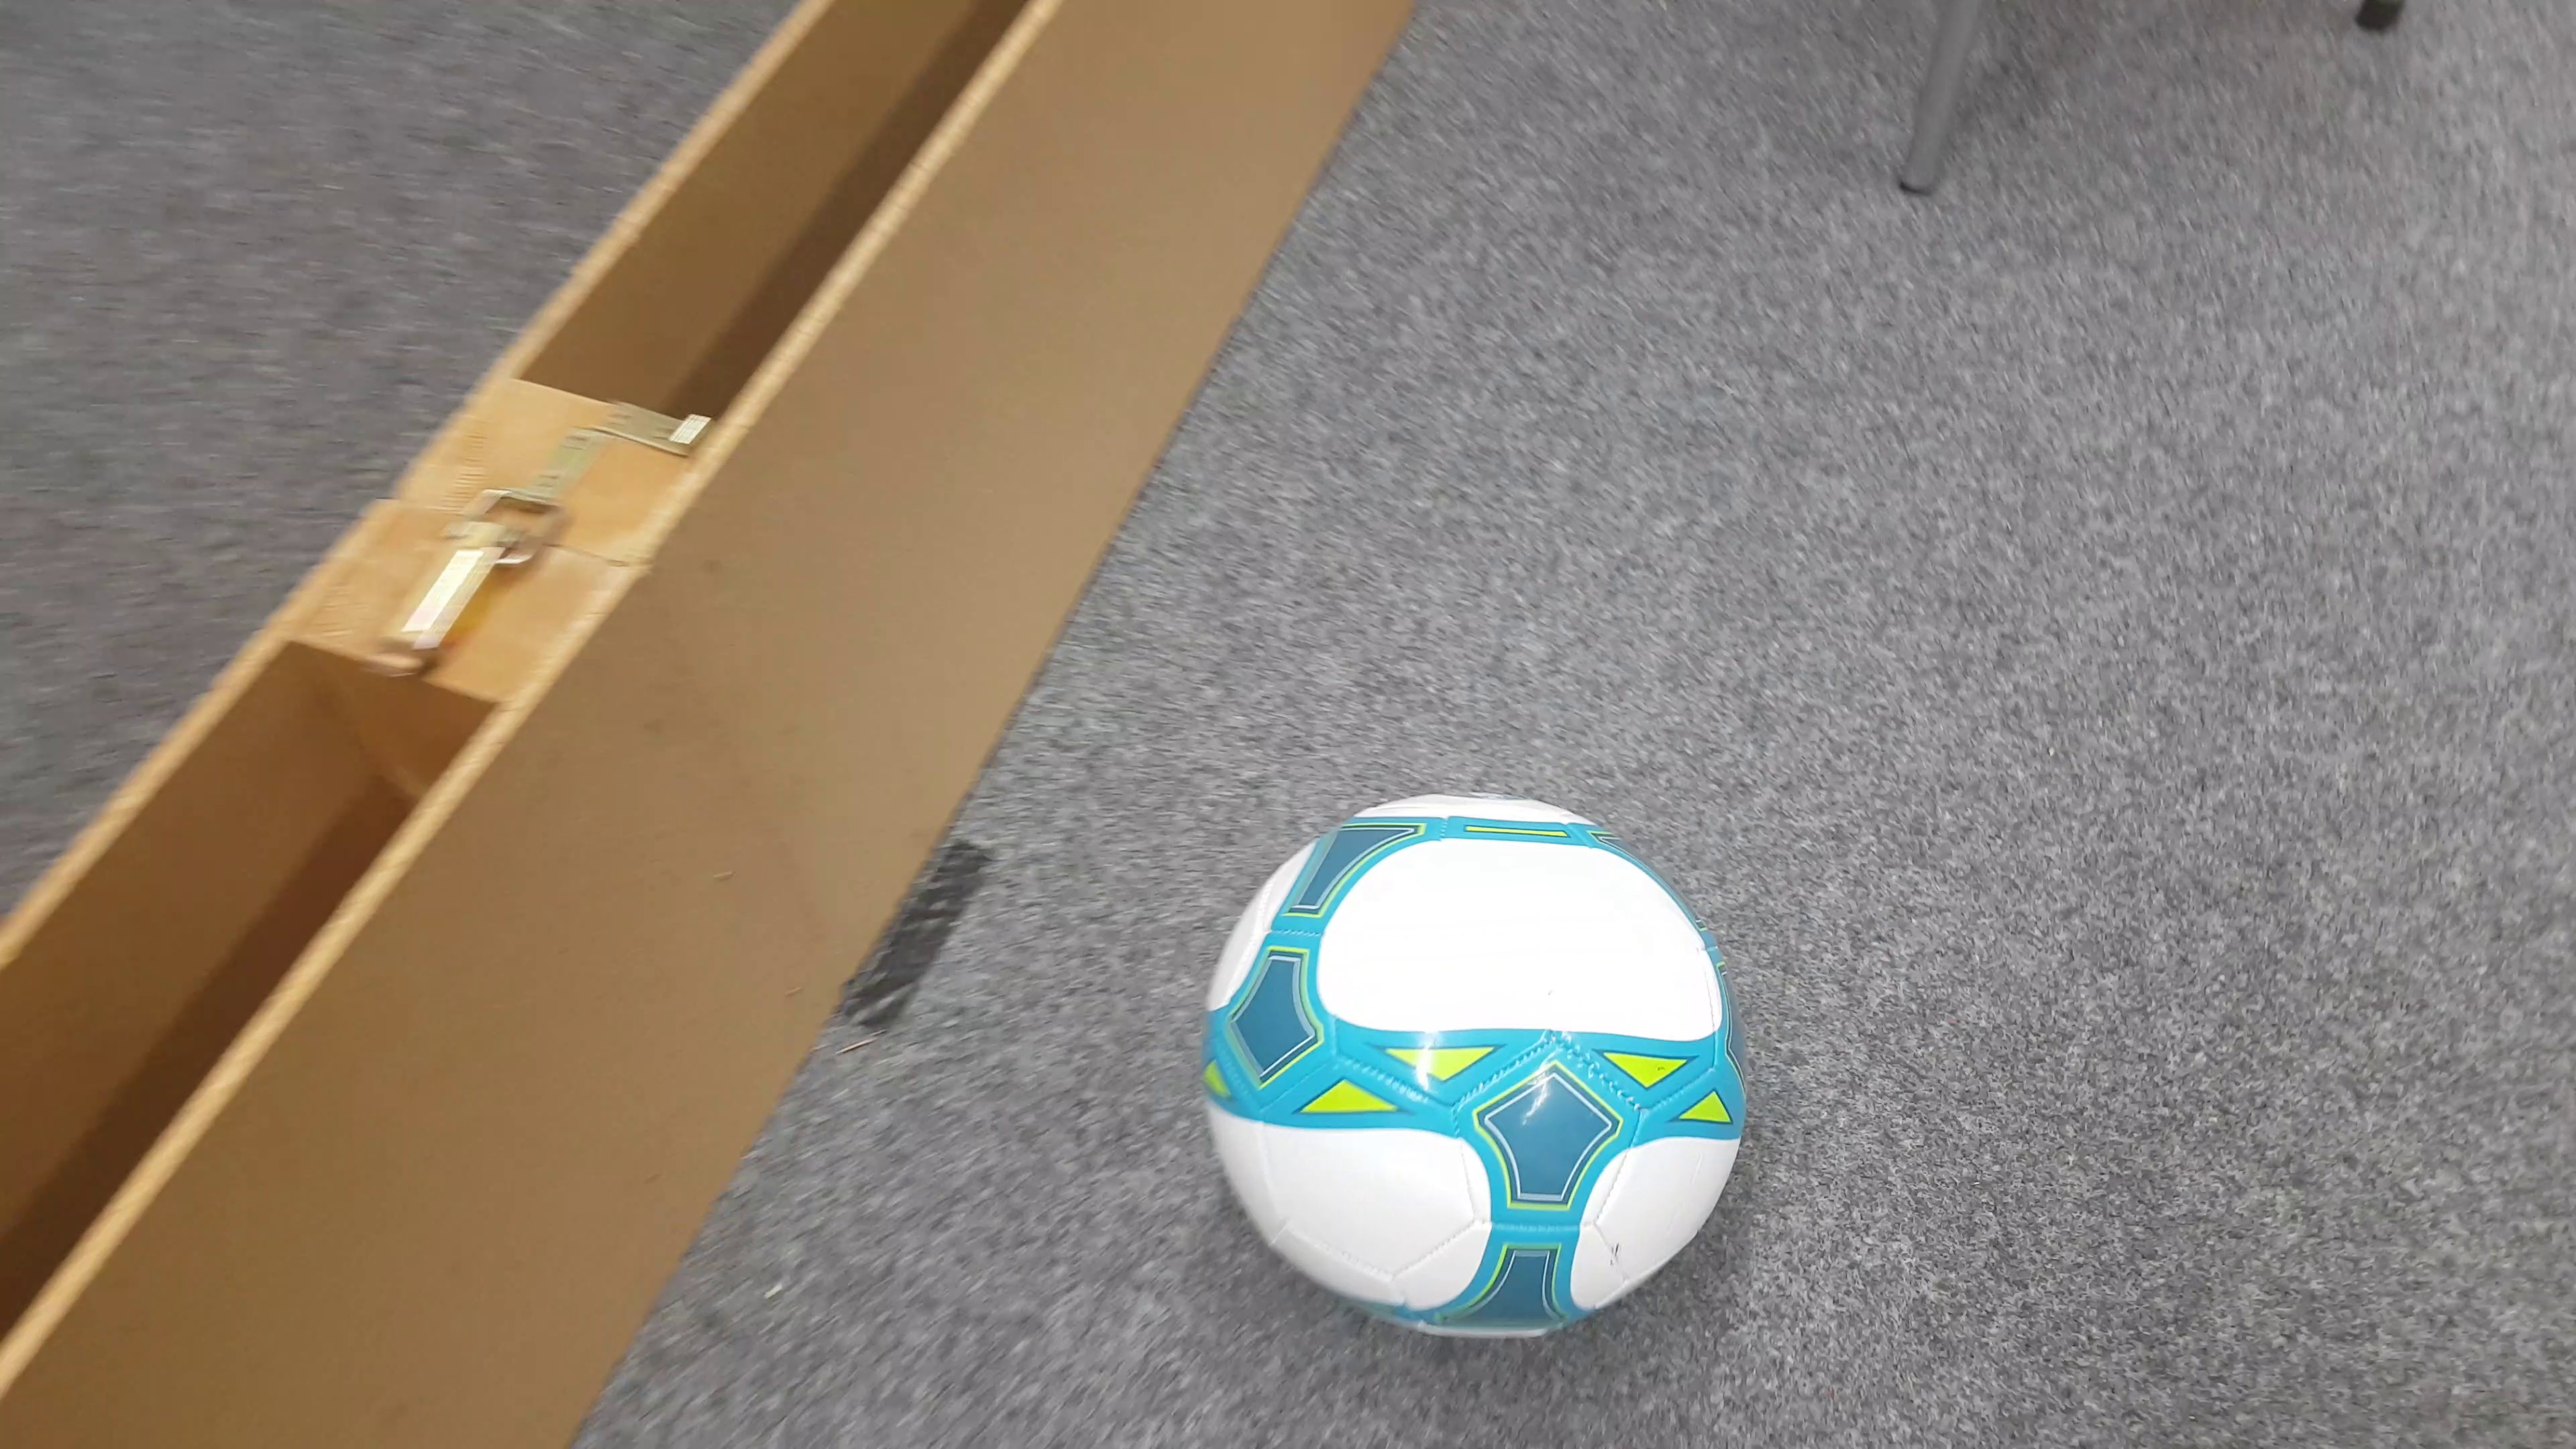kick: (1194, 786, 1743, 1343)
